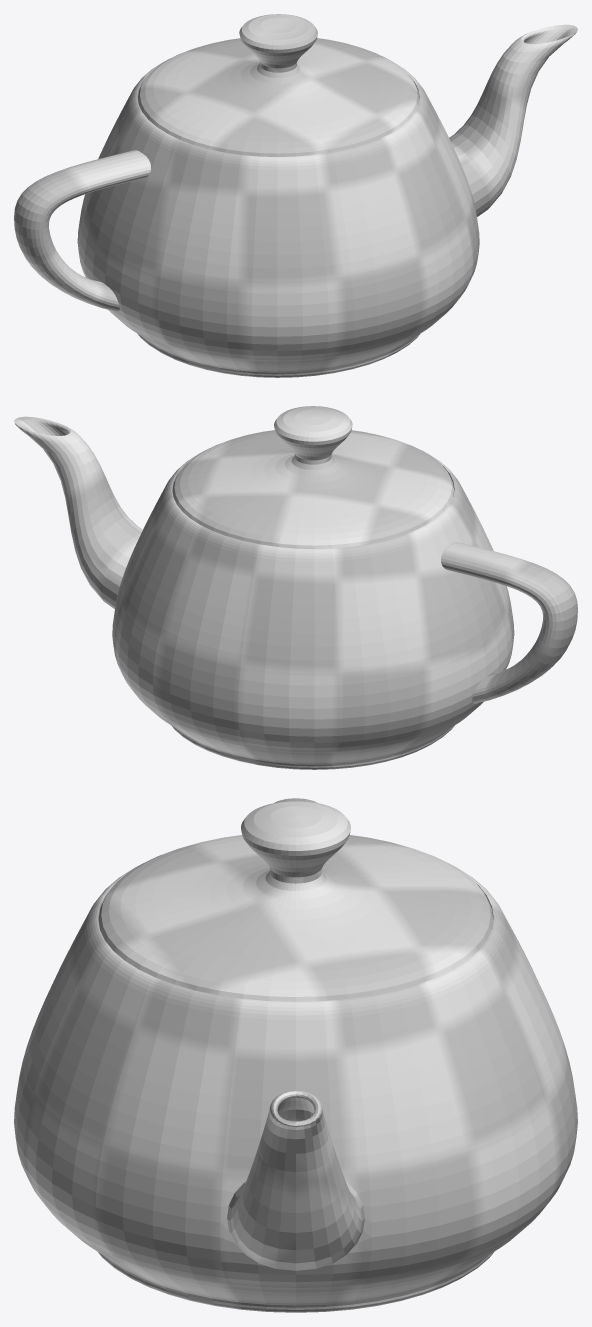
File: teapot.gltf
3 views of the same model, one above another, from view 1: azimuth 30°, elevation 25°; view 2: azimuth 150°, elevation 25°; view 3: azimuth 270°, elevation 25° (orthographic). The views are drawn at different scales.
Parts seen in each view (by area): view 1: teapot; view 2: teapot; view 3: teapot.
Part boxes in pixels (box(x1,y1,x2,y2)): teapot: box(14, 14, 577, 377); teapot: box(14, 406, 577, 769); teapot: box(14, 798, 577, 1312).
Size of the model in its own units: 34.22 by 17.54 by 21.28.
1 material, 1 textured.
